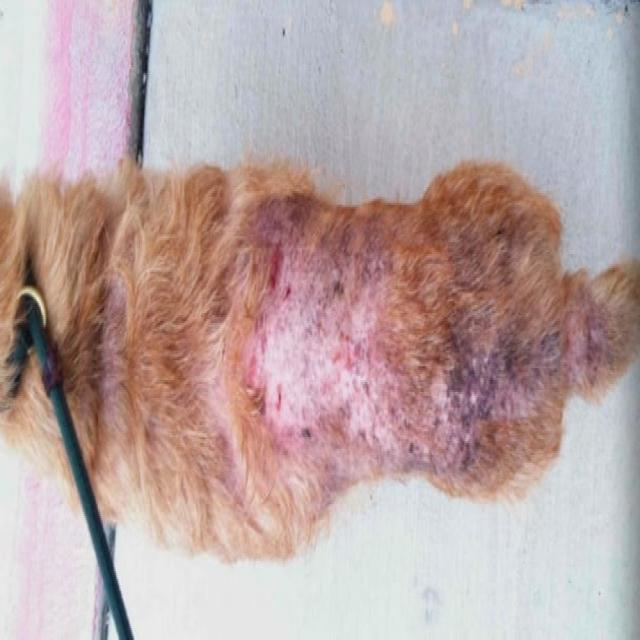allergic dermatitis: (173, 214, 536, 447)
